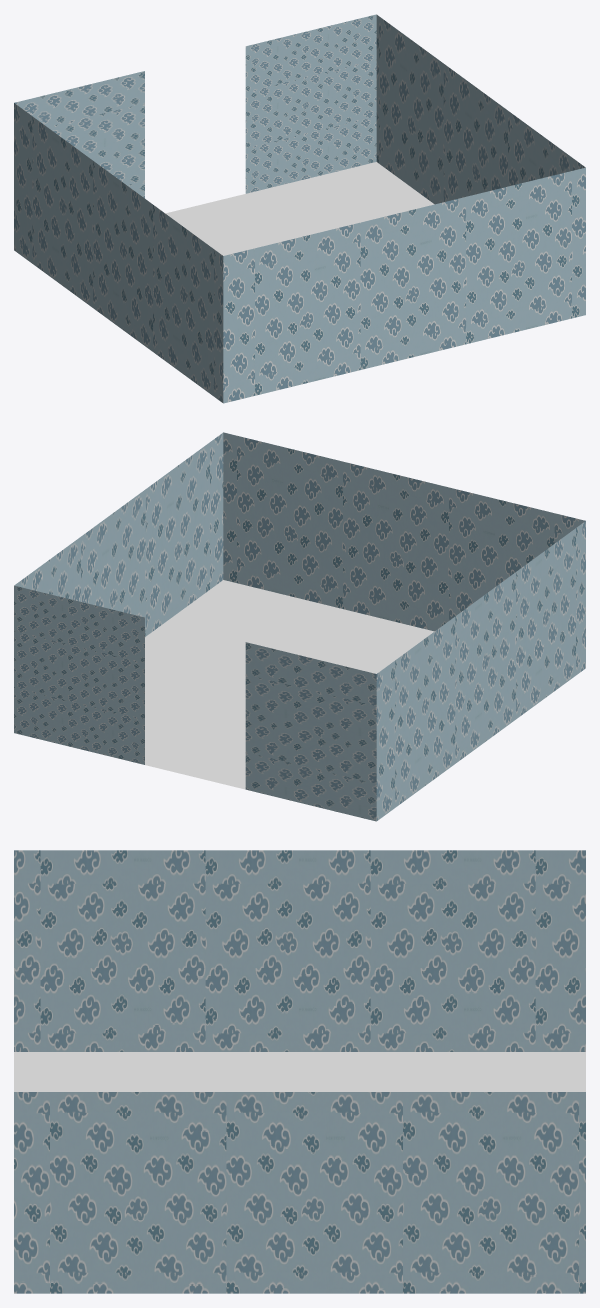
The model's file is TestRoomTexture.fbx.
The picture shows the model from 3 angles, top to bottom: view 1: azimuth 30°, elevation 25°; view 2: azimuth 150°, elevation 25°; view 3: azimuth 270°, elevation 25°; orthographic projection. The views are drawn at different scales.
Parts seen in each view (by area): view 1: Room1InsideIndex1.008, Room1InsideIndex1.012, Room1InsideIndex1.009, Room1InsideIndex1.010, Room1InsideIndex1.007, Room1InsideIndex1.011; view 2: Room1InsideIndex1.008, Room1InsideIndex1.012, Room1InsideIndex1.007, Room1InsideIndex1.009, Room1InsideIndex1.011, Room1InsideIndex1.010; view 3: Room1InsideIndex1.009, Room1InsideIndex1.012, Room1InsideIndex1.007.
Boxes of the visible parts, <box> form: Room1InsideIndex1.008: <box>223,167,585,403</box>; Room1InsideIndex1.012: <box>14,103,223,402</box>; Room1InsideIndex1.009: <box>376,15,585,204</box>; Room1InsideIndex1.010: <box>245,14,376,193</box>; Room1InsideIndex1.007: <box>165,162,434,255</box>; Room1InsideIndex1.011: <box>14,71,144,198</box>; Room1InsideIndex1.008: <box>223,432,585,631</box>; Room1InsideIndex1.012: <box>376,521,585,820</box>; Room1InsideIndex1.007: <box>145,580,434,789</box>; Room1InsideIndex1.009: <box>14,433,223,636</box>; Room1InsideIndex1.011: <box>245,642,376,821</box>; Room1InsideIndex1.010: <box>14,585,144,764</box>; Room1InsideIndex1.009: <box>14,1092,585,1293</box>; Room1InsideIndex1.012: <box>14,850,585,1051</box>; Room1InsideIndex1.007: <box>14,1052,585,1091</box>.
Size of the model in its own units: 540 by 210 by 540.
Materials: 1 (1 with a texture image).
